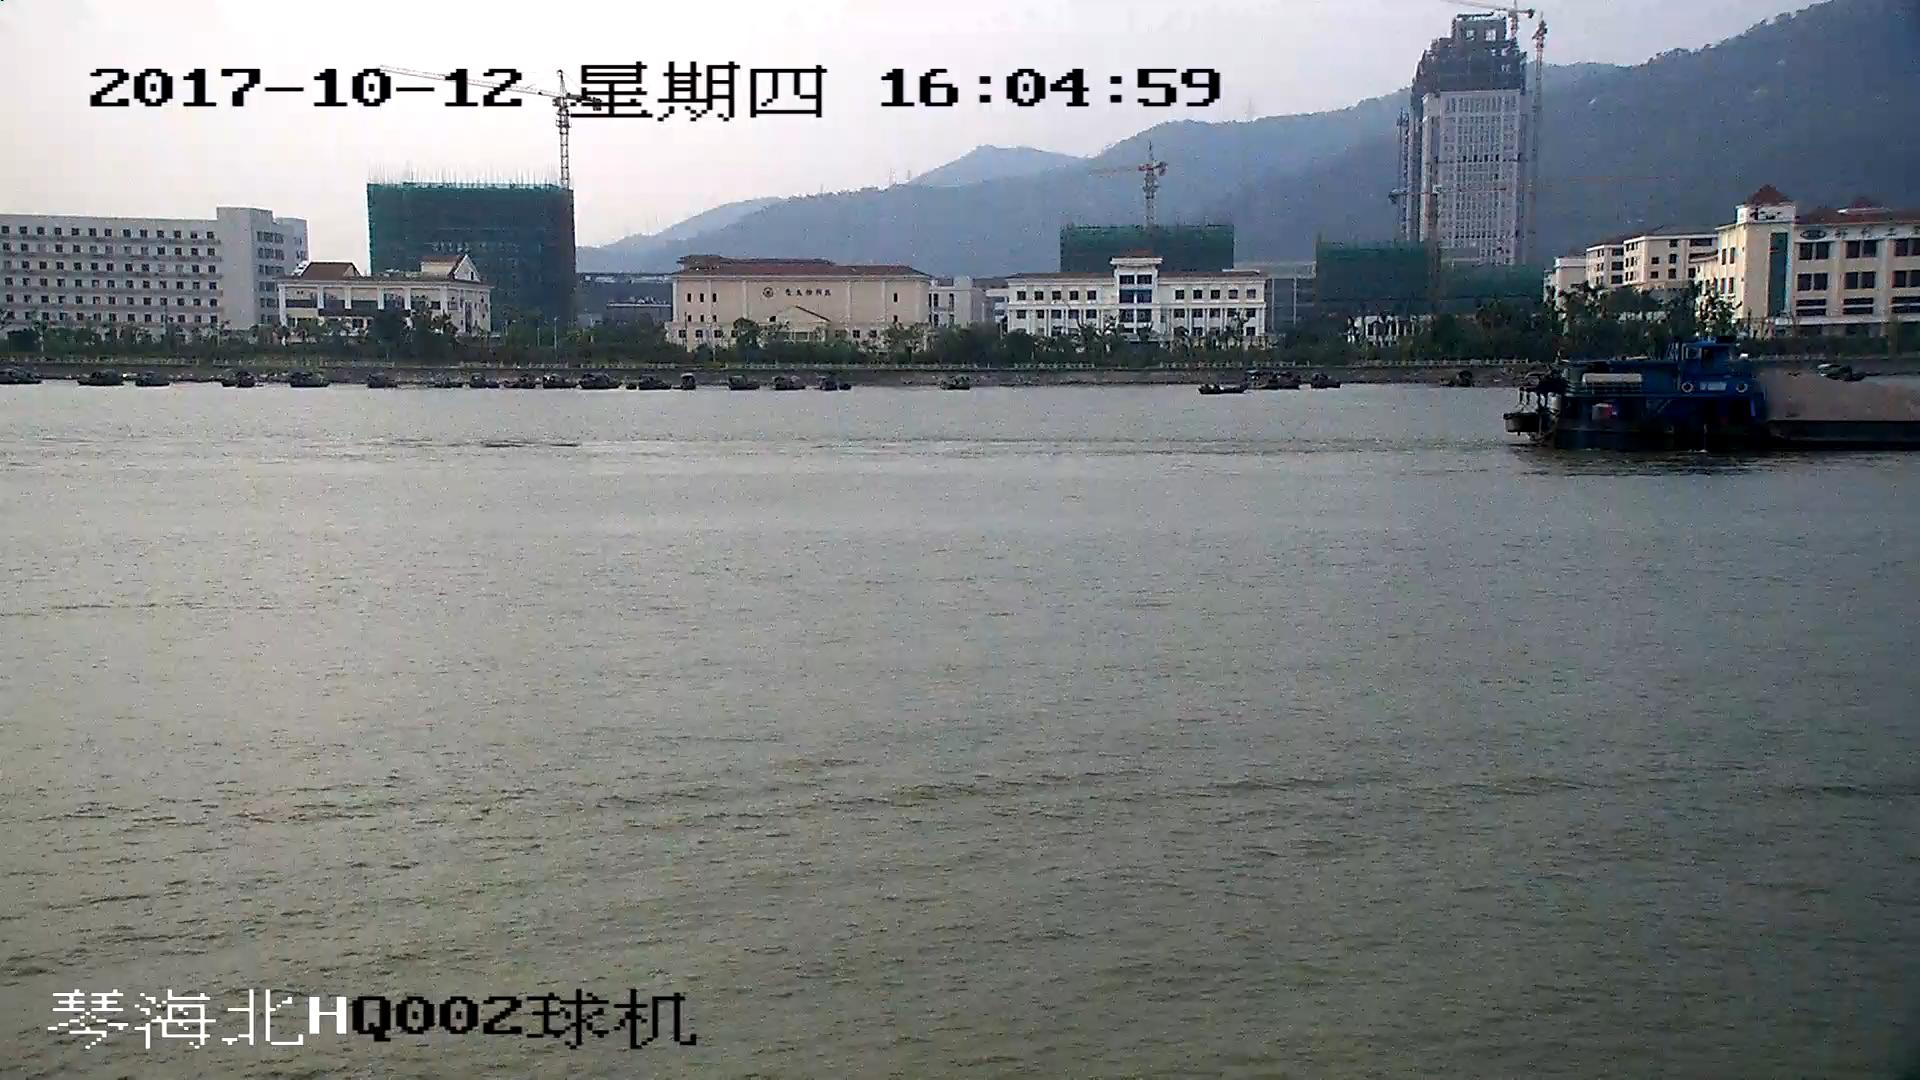ore carrier: (1517, 345, 1920, 440)
